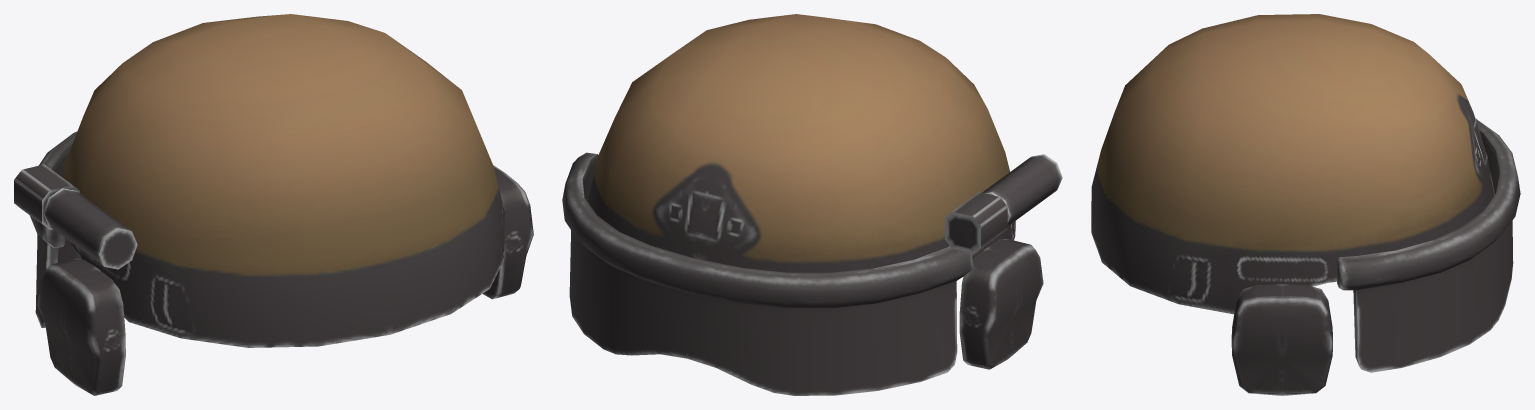
Rendered from IG_Helmat_LV4.fbx.
3 views of the same model, side by side, from view 1: azimuth 30°, elevation 25°; view 2: azimuth 150°, elevation 25°; view 3: azimuth 270°, elevation 25° (orthographic). The views are drawn at different scales.
Parts seen in each view (by area): view 1: Hair_Hat_LV5; view 2: Hair_Hat_LV5; view 3: Hair_Hat_LV5.
Part boxes in pixels (left/top/right/bottom): Hair_Hat_LV5: left=14, top=14, right=533, bottom=395; Hair_Hat_LV5: left=562, top=14, right=1062, bottom=395; Hair_Hat_LV5: left=1091, top=14, right=1520, bottom=395.
Bounding box in the file's own units: 0.6792 × 0.4096 × 0.6132.
